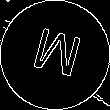M_S: (26, 25, 84, 85)
